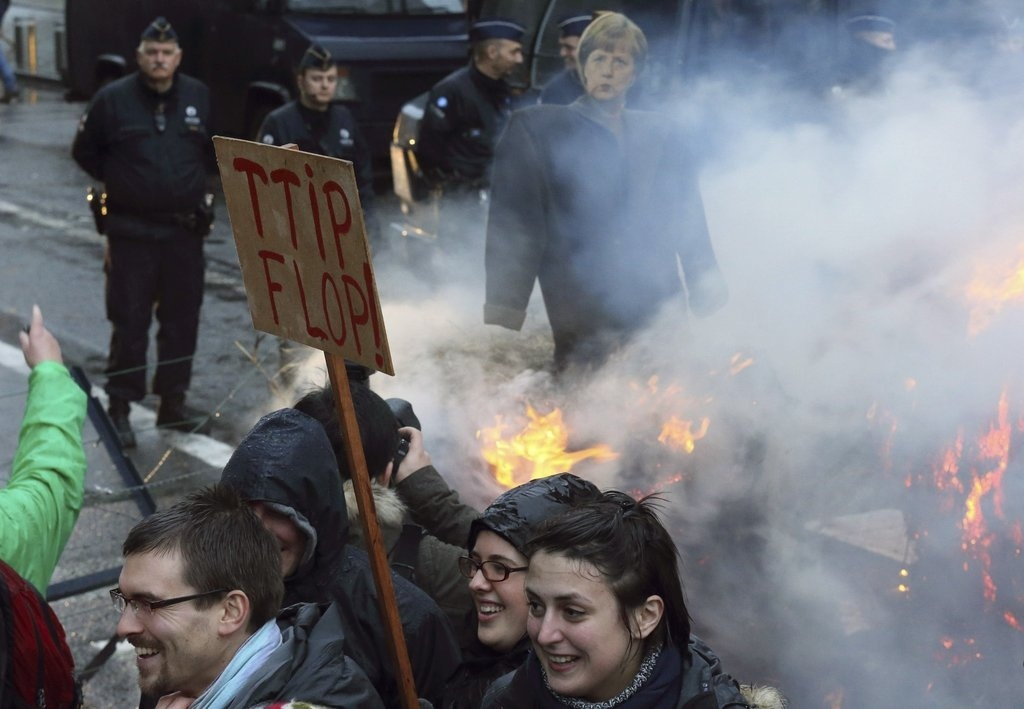fire: (479, 401, 618, 490)
